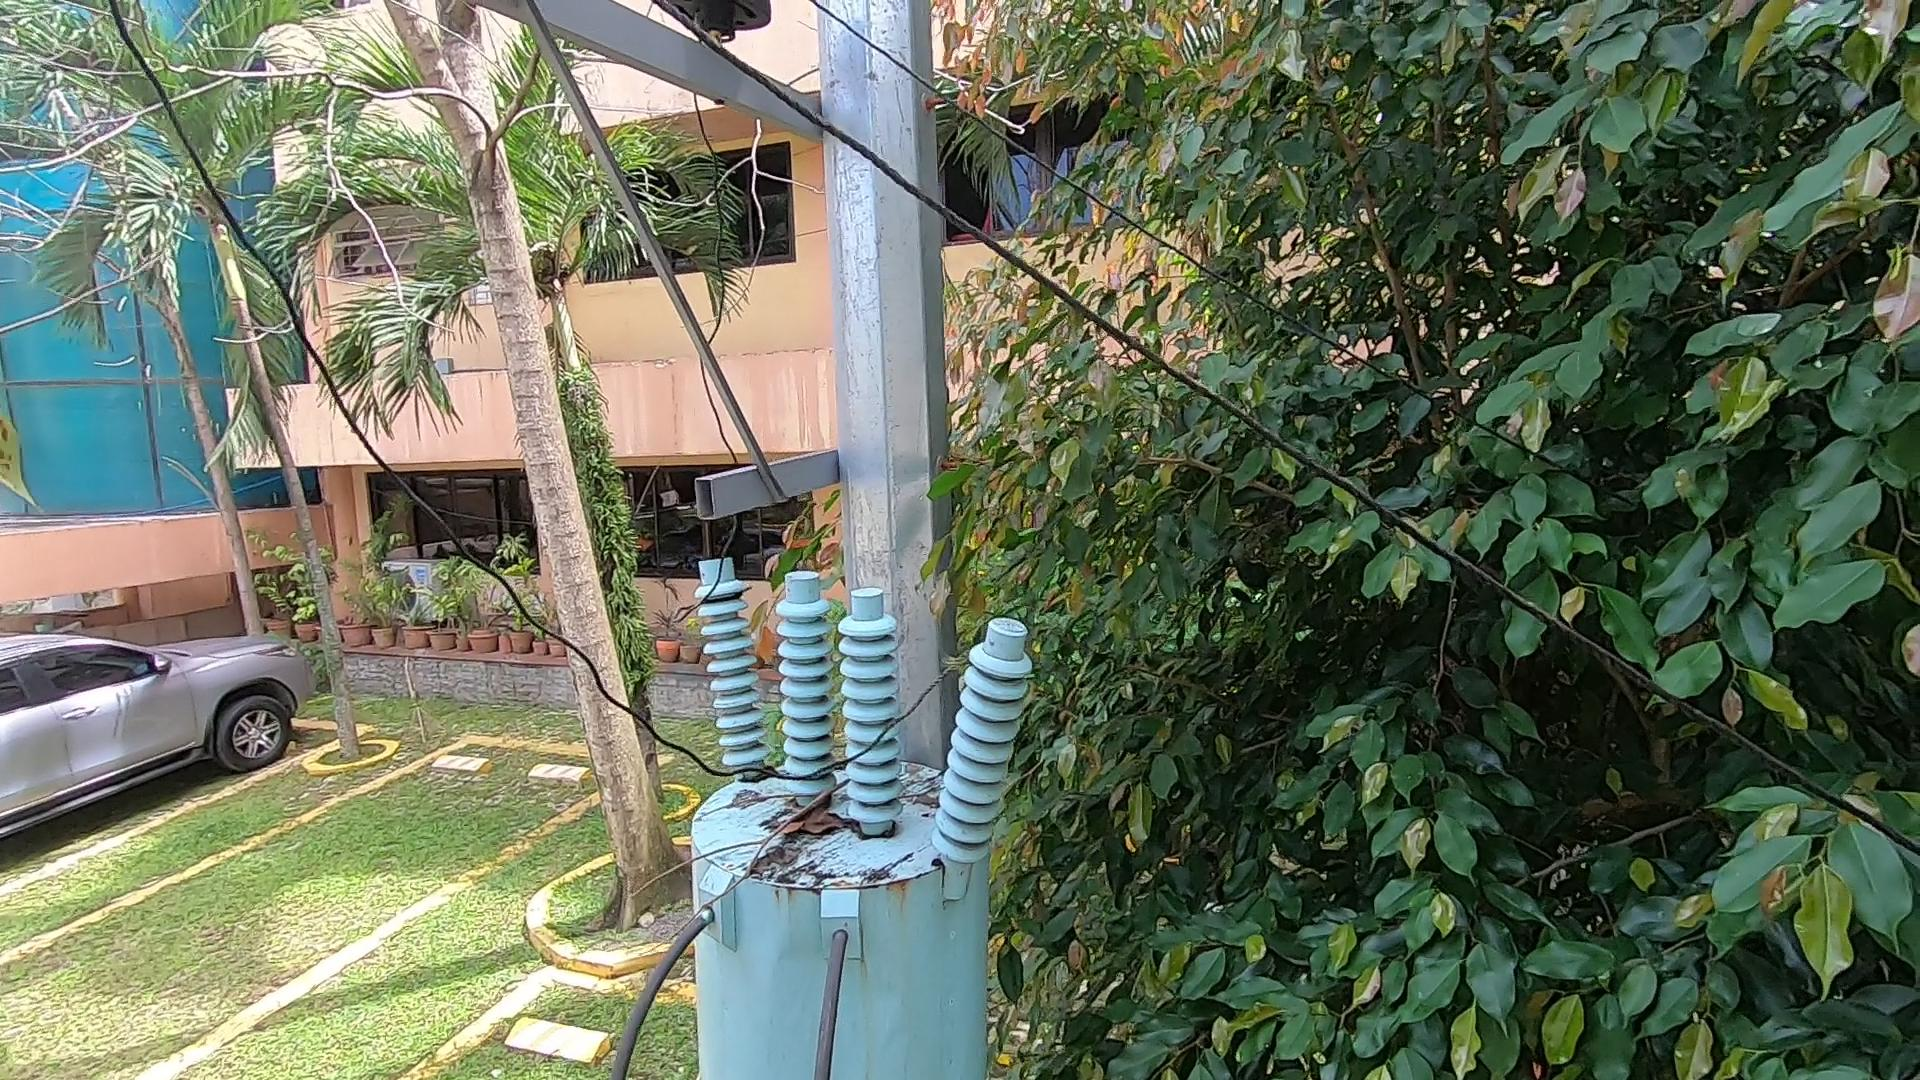leaf: (779, 802, 869, 852), (727, 760, 785, 791)
tree branch: (617, 750, 851, 957)
